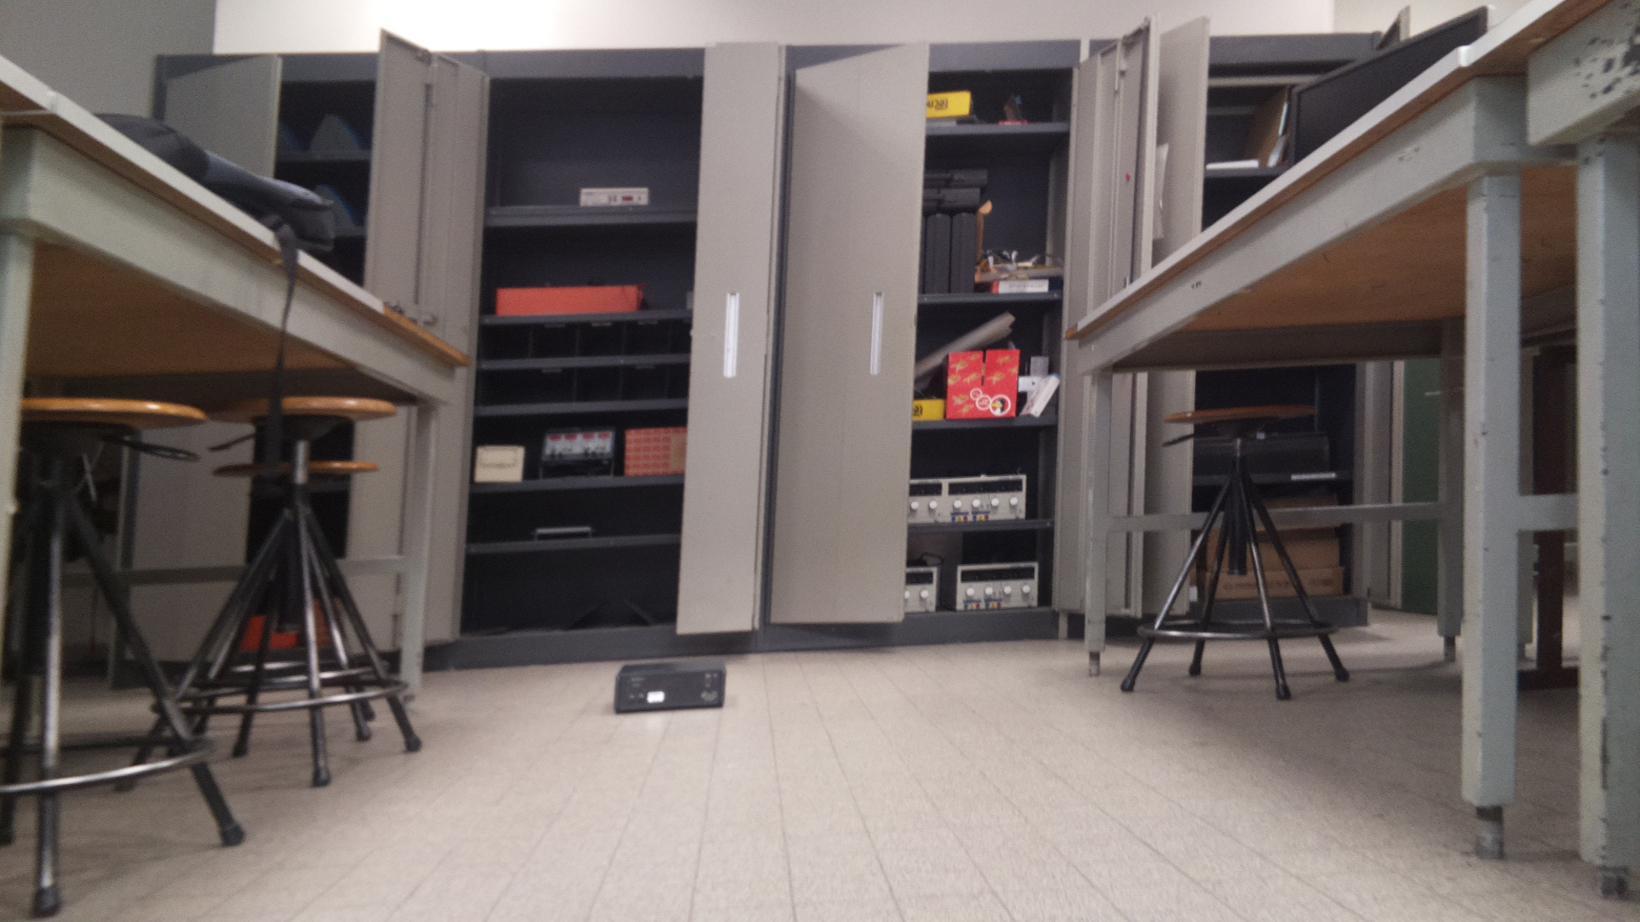medium: (616, 661, 728, 711)
